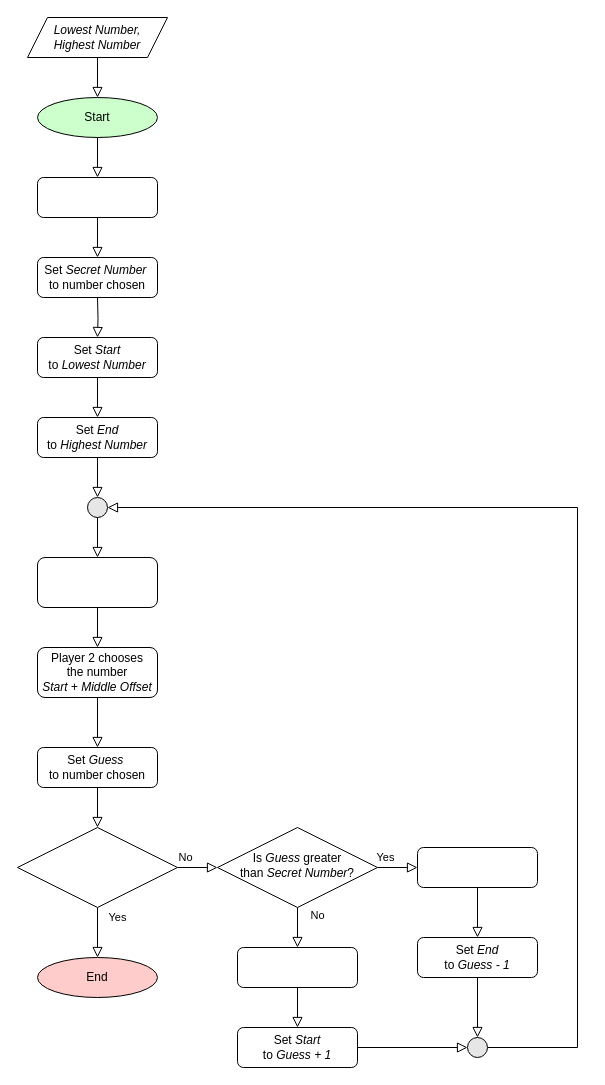
Image size: 605x1085. Some labels were removed from this diagram. The shapes that lost their labels are listed below. From the top down, each one's centre as x and y in pixels, then its label:
(x=97, y=197): Player 1 chooses a secret number
(x=97, y=582): Set Middle Offset to (( End - Start ) / 2) rounded down
(x=97, y=867): Is Guess equal to Secret Number ?
(x=477, y=867): Tell Player 2 to guess lower
(x=297, y=967): Tell Player 2 to guess higher
